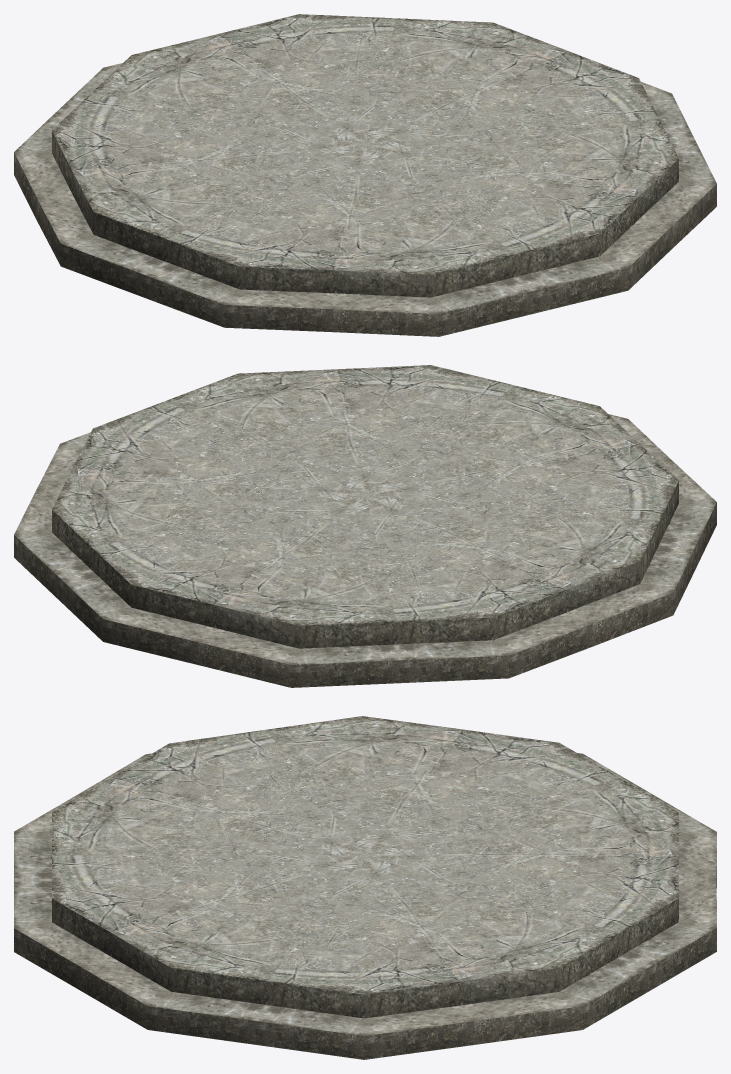
The model's file is warpgate02_01.fbx.
3 renders of one model, top to bottom at view 1: azimuth 30°, elevation 25°; view 2: azimuth 150°, elevation 25°; view 3: azimuth 270°, elevation 25°, orthographic. The views are drawn at different scales.
Visible parts, largest first — view 1: gate02; view 2: gate02; view 3: gate02.
Boxes of the visible parts, x1=… form: gate02: x1=14, y1=14, x2=716, y2=336; gate02: x1=14, y1=365, x2=716, y2=687; gate02: x1=14, y1=716, x2=716, y2=1059.
Size of the model in its own units: 12.17 by 0.8804 by 11.58.
